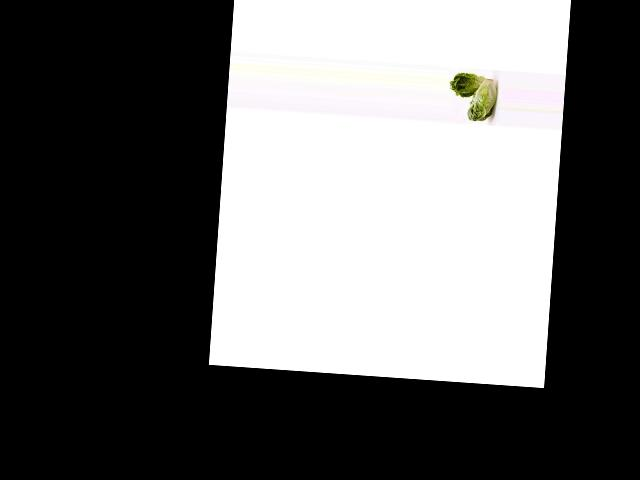lettuce: (464, 74, 499, 125)
